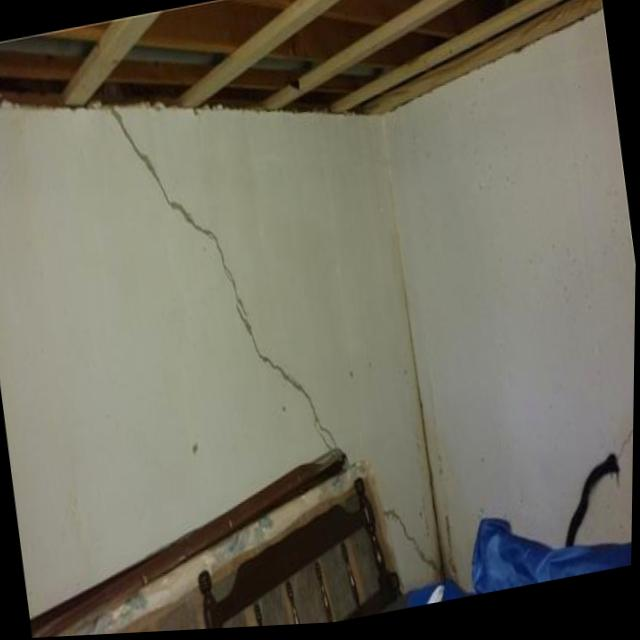Crack: (107, 75, 342, 484), (384, 509, 443, 584), (611, 388, 635, 461)
